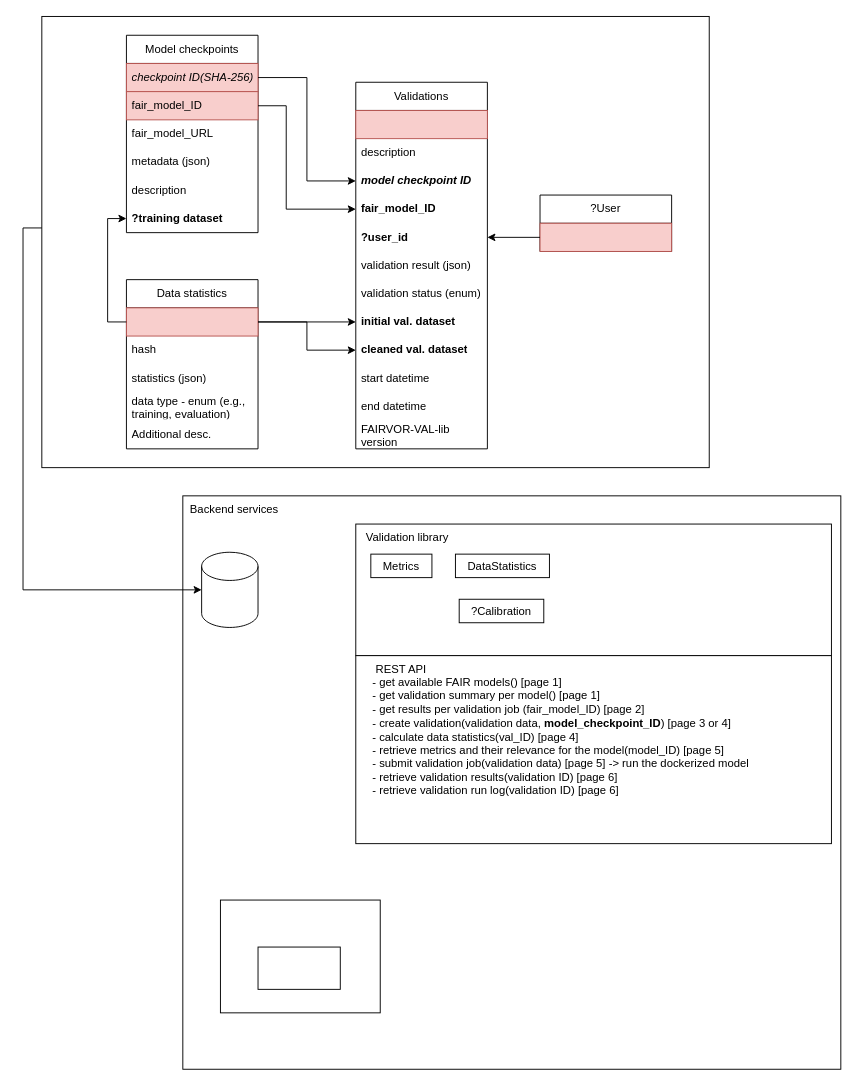
Image size: 857x1086. Some labels were removed from this diagram. Here are the shapes that lost their labels. From the top down, the centre of each, then its label:
At (x=421, y=124): "val_ID".
At (x=605, y=236): "user_id".
At (x=191, y=321): "ds_id".
At (x=229, y=589): "DB".
At (x=298, y=967): "Docker image + REST API".
